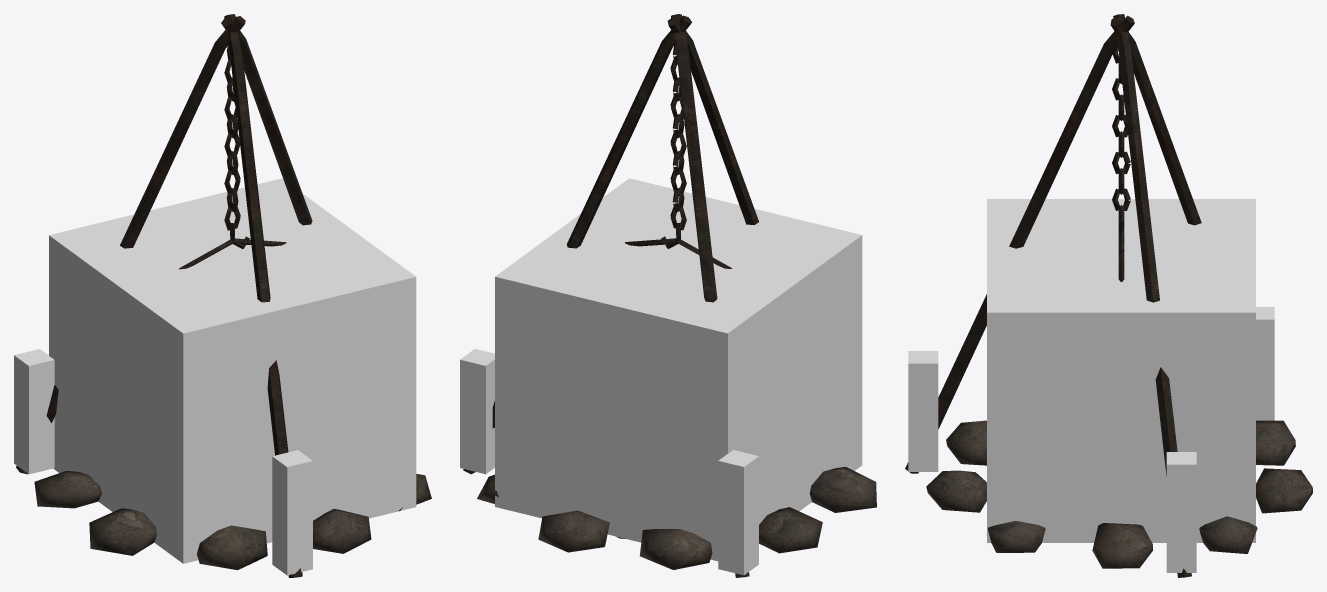
Rendered from cauldron_tripod_v1.glb.
3 views of the same model, side by side, from view 1: azimuth 30°, elevation 25°; view 2: azimuth 150°, elevation 25°; view 3: azimuth 270°, elevation 25° (orthographic).
Visible parts, largest first — view 1: col_cauldron, cauldron, col_leg2, col_leg1; view 2: col_cauldron, cauldron, col_leg1, col_leg0; view 3: col_cauldron, cauldron, col_leg2, col_leg0, col_leg1.
Boxes of the visible parts, x1,y1,x2,y2 form: col_cauldron: (49,178,416,563); cauldron: (16,14,431,577); col_leg2: (272,450,312,575); col_leg1: (14,349,54,474); col_cauldron: (495,178,862,561); cauldron: (463,14,876,577); col_leg1: (718,450,758,575); col_leg0: (460,349,494,474); col_cauldron: (987,199,1255,542); cauldron: (905,14,1312,577); col_leg2: (908,351,938,471); col_leg0: (1166,452,1196,572); col_leg1: (1256,307,1274,420).
Size of the model in its own units: 1.37 by 1.81 by 1.37.
Materials: 5 (3 with a texture image).
